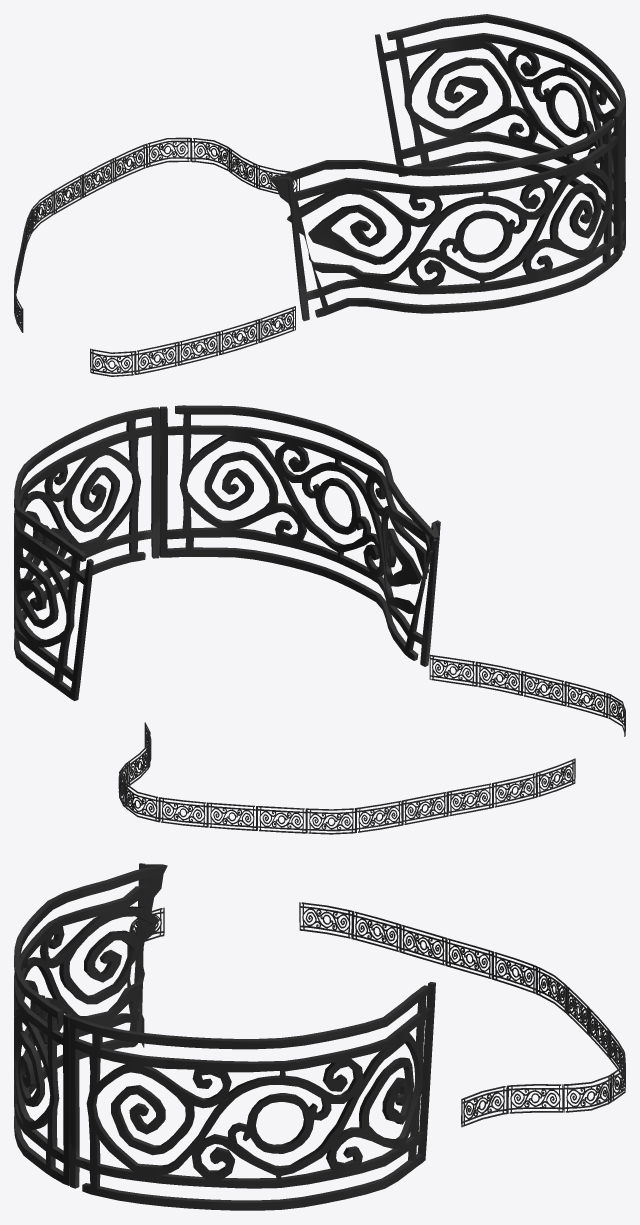
File: GrandmaDoorsFence.fbx
The picture shows the model from 3 angles, top to bottom: view 1: azimuth 30°, elevation 25°; view 2: azimuth 150°, elevation 25°; view 3: azimuth 270°, elevation 25°; orthographic projection. The views are drawn at different scales.
Parts seen in each view (by area): view 1: segment 1 mesh (×3); view 2: segment 1 mesh (×3); view 3: segment 1 mesh (×3).
Boxes of the visible parts, <box> form: segment 1 mesh (×3): <box>14,14,625,376</box>; segment 1 mesh (×3): <box>14,405,625,834</box>; segment 1 mesh (×3): <box>14,863,625,1210</box>.
Bounding box in the file's own units: 47.42 × 14.29 × 39.53.
